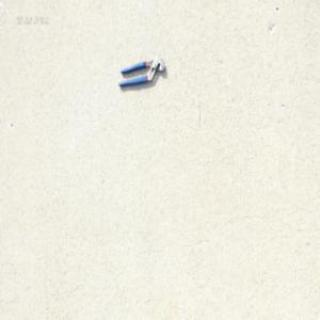Pliertrack_idkeyframe: (116, 55, 165, 88)
